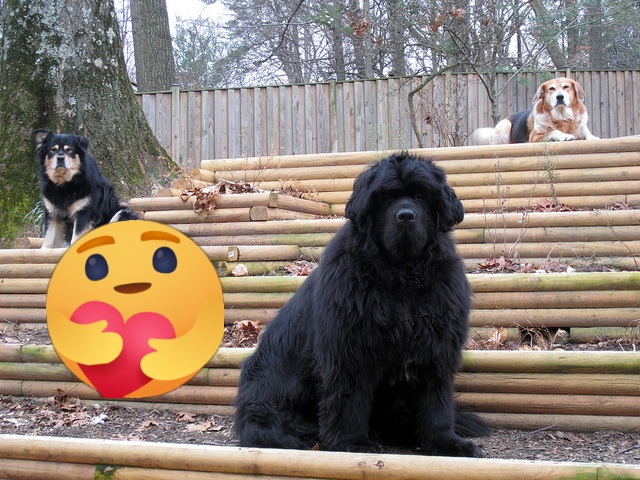care: (46, 220, 224, 398)
